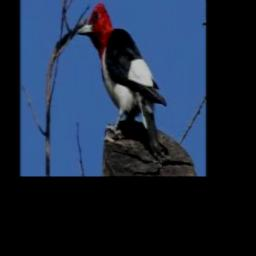Woodpecker: (77, 2, 166, 156)
